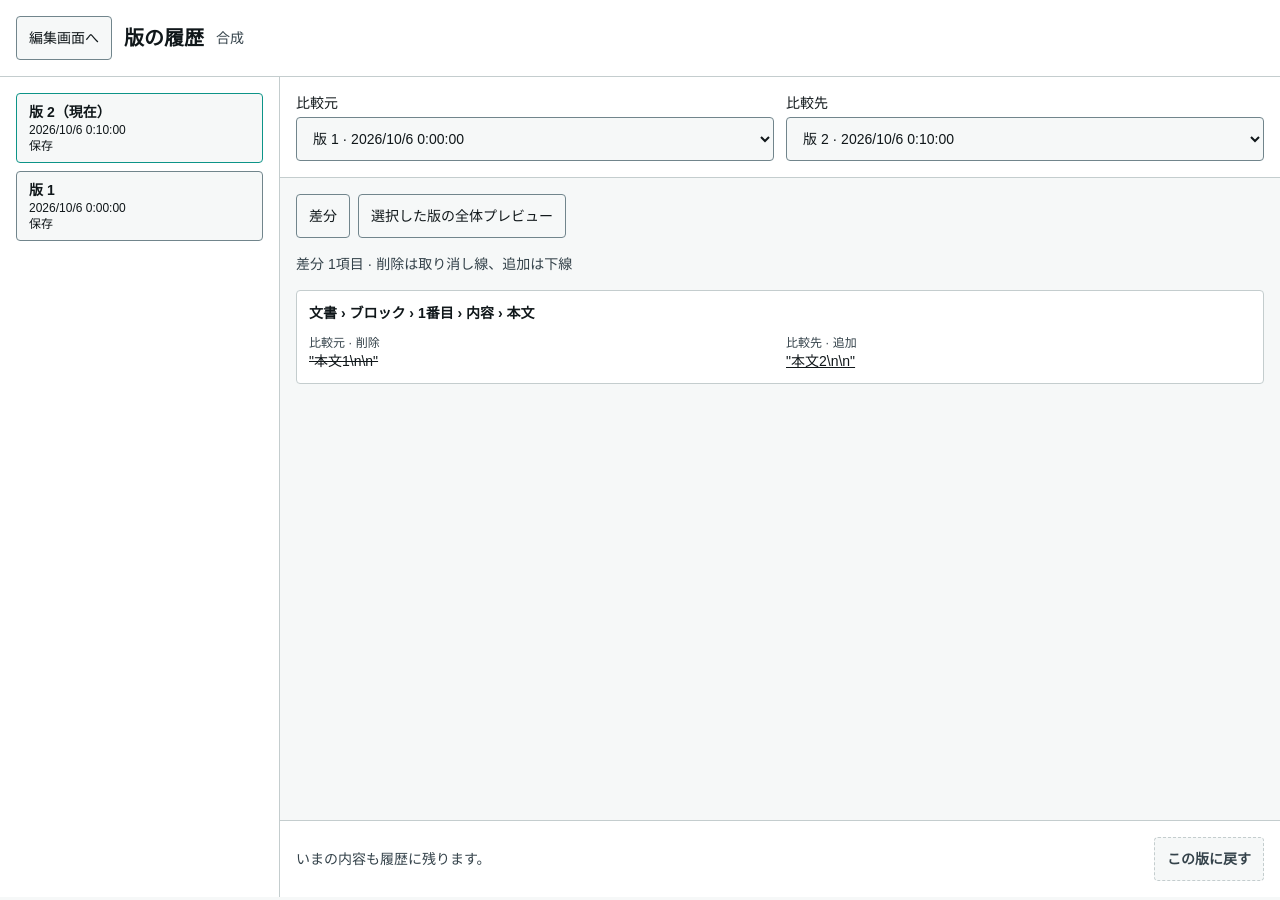
Test: シート全体の版の履歴 › 通常の復元確認は内容詳細を折りたたみ、開くと確認tokenの対象原文と差分を表示する
This screenshot has width=1280, height=900.
Click the button "版 1 2026/10/6 0:00:00 保存" at (140, 206), box x1=16 y1=171 x2=263 y2=241
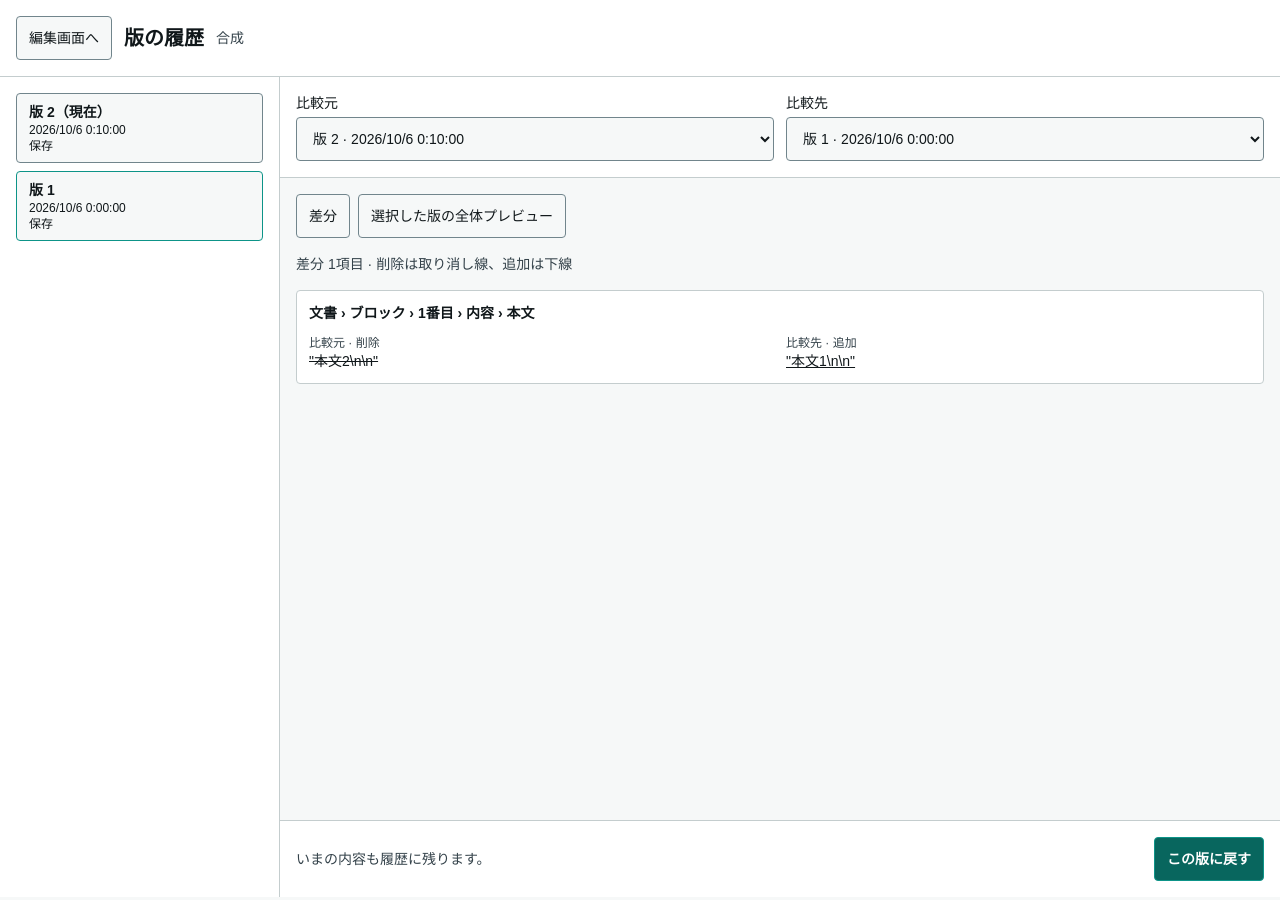
Now the button "この版に戻す" is enabled
Click the button "この版に戻す" at (1209, 859), box x1=1154 y1=837 x2=1264 y2=881
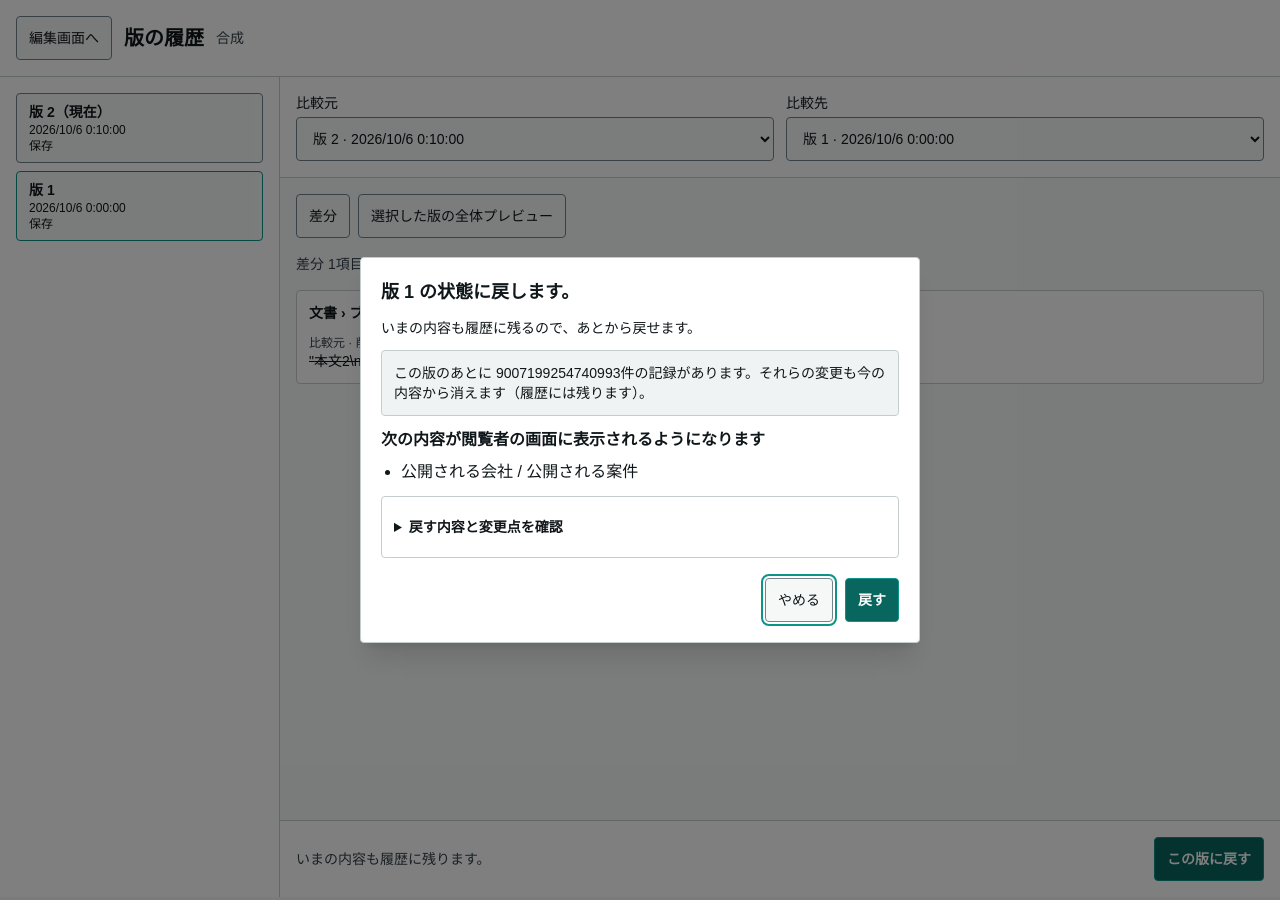
Click the heading "戻す内容と変更点を確認" at (486, 527), box x1=409 y1=519 x2=563 y2=535
(page scrolled)
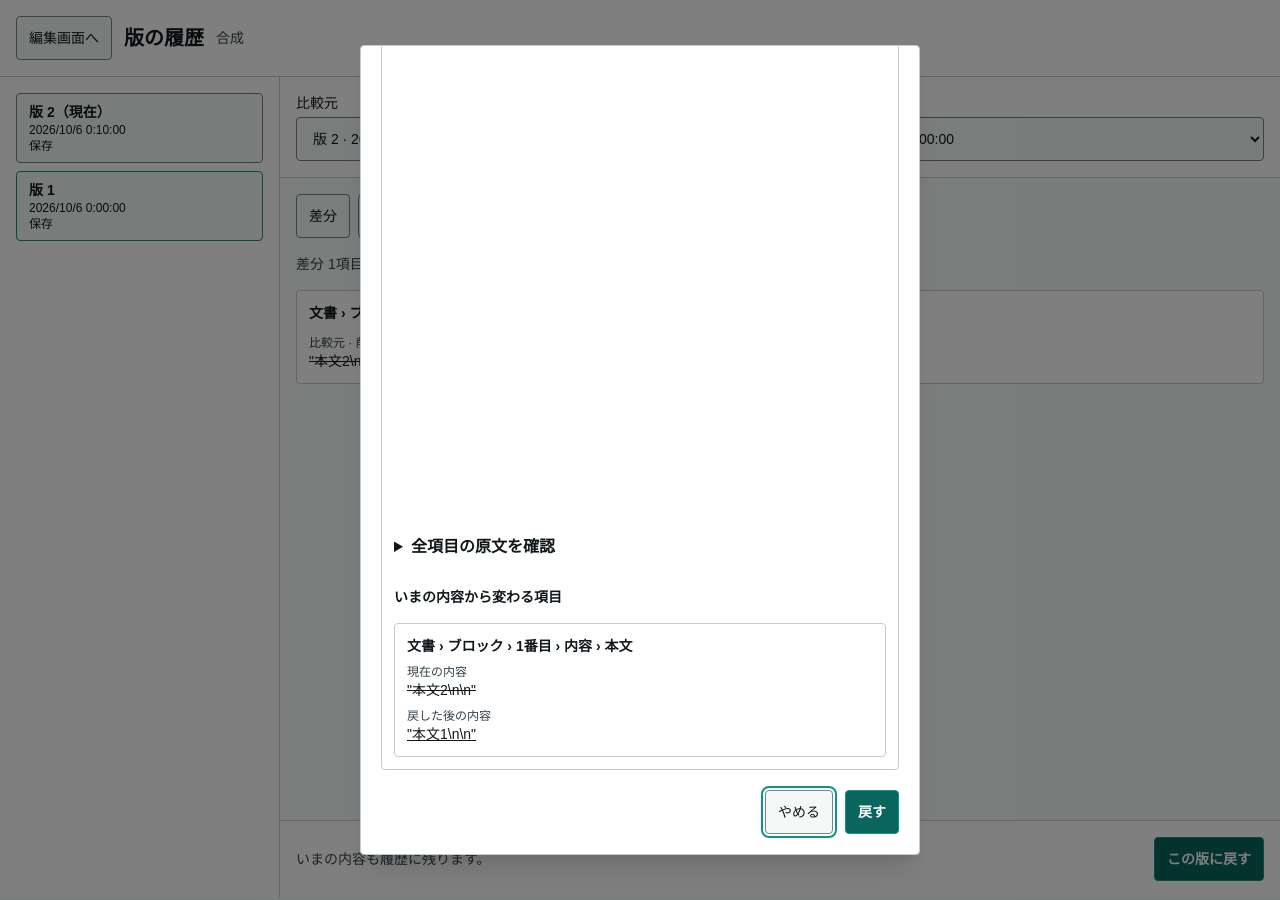
Now the heading "いまの内容から変わる項目" is shown, box x1=394 y1=589 x2=562 y2=605
Now the text "\"本文2\\n\\n\"" is shown, box x1=407 y1=682 x2=476 y2=698
Now the text "\"本文1\\n\\n\"" is shown, box x1=407 y1=726 x2=476 y2=742
